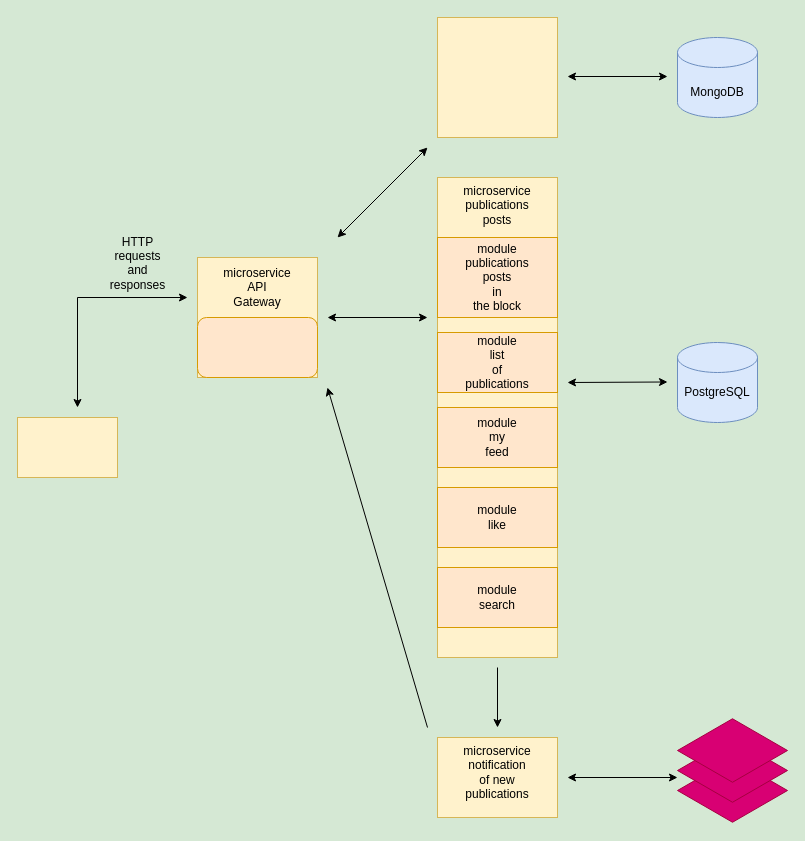
This 805x841 diagram has some shape labels left out. The shapes that lost their labels are listed below. From the top down, each one's centre as x and y in pixels, then its label:
At point (497, 77): "microservice registratoon user".
At point (257, 347): "module authorization user".
At point (67, 447): "clients".
At point (732, 750): "RabbitMQ".
